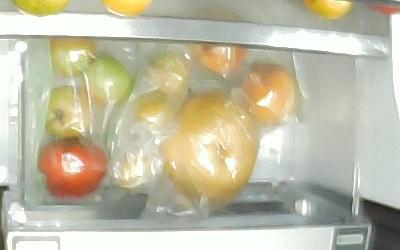peach_vinyl: (235, 60, 297, 127), (186, 44, 243, 74)
pear_vinyl: (158, 91, 257, 202)
tangerine_vinyl: (145, 53, 187, 100), (136, 93, 174, 129), (115, 154, 152, 190)
tomato_vinyl: (37, 135, 108, 199), (77, 52, 131, 107), (43, 85, 91, 137), (48, 38, 96, 78)
